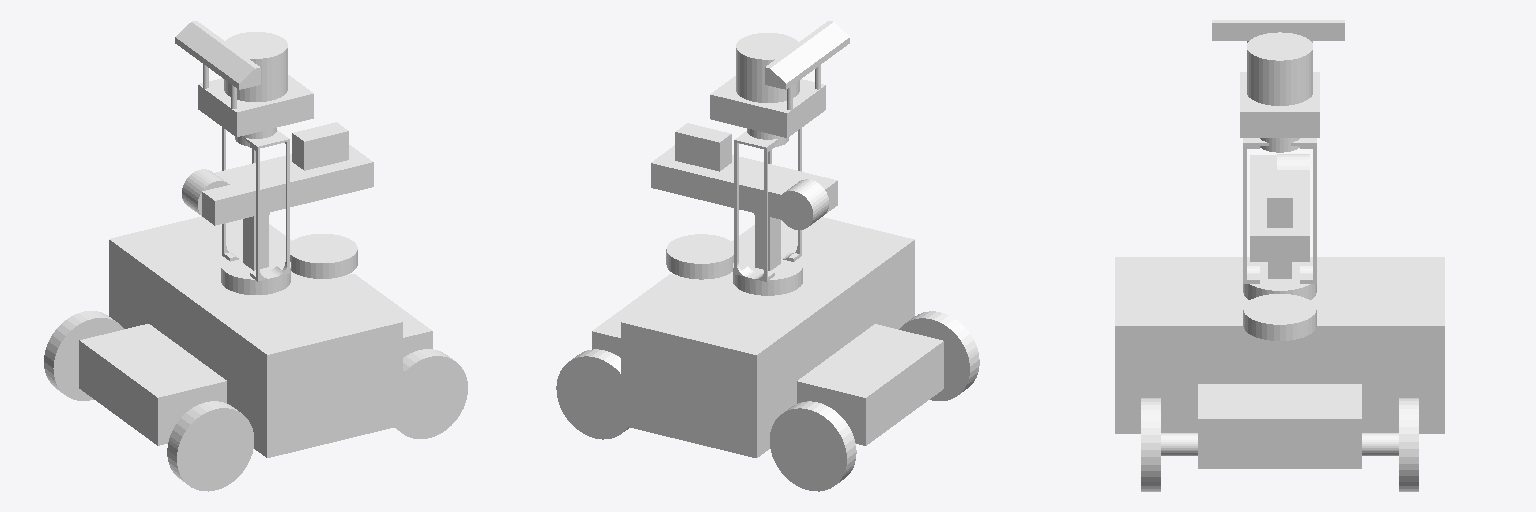
robot.urdf — sentry233333:
<?xml version="1.0" encoding="utf-8"?>
<!-- This URDF was automatically created by SolidWorks to URDF Exporter! Originally created by [author] ([email redacted]) 
     Commit Version: 1.6.0-4-g7f85cfe  Build Version: 1.6.7995.38578
     For more information, please see http://wiki.ros.org/sw_urdf_exporter -->
<robot
  name="sentry233333">
  <link
  
    name="base_link">
    <inertial>
      <origin
        xyz="0 0 0"
        rpy="0 0 0" />
      <mass
        value="25.541" />
      <inertia
        ixx="0.91899"
        ixy="5.9401E-05"
        ixz="-0.010701"
        iyy="0.75967"
        iyz="-4.2596E-05"
        izz="0.78912" />
    </inertial>
    
    
    
    <visual>
      <origin
        xyz="0 0 0"
        rpy="0 0 0" />
      <geometry>
        <mesh
          filename="package://sentry233333/meshes/base_link.STL" />
      </geometry>
      <material
        name="">
        <color
          rgba="1 1 1 1" />
      </material>
    </visual>
    
    
    
    <collision>
      <origin
        xyz="0 0 0"
        rpy="0 0 0" />
      <geometry>
        <mesh
          filename="package://sentry233333/meshes/base_link.STL" />
      </geometry>
    </collision>
  </link>
  
  
  <link
    name="wheel_leftfront_link">
    <inertial>
      <origin
        xyz="0 0 0"
        rpy="0 0 0" />
      <mass
        value="0.227" />
      <inertia
        ixx="0.00060036"
        ixy="-1.3779E-20"
        ixz="1.6094E-20"
        iyy="0.0011314"
        iyz="-5.6497E-18"
        izz="0.00060036" />
    </inertial>
    <visual>
      <origin
        xyz="0 0 0"
        rpy="0 0 0" />
      <geometry>
        <mesh
          filename="package://sentry233333/meshes/wheel_leftfront_link.STL" />
      </geometry>
      <material
        name="">
        <color
          rgba="1 1 1 1" />
      </material>
    </visual>
    <collision>
      <origin
        xyz="0 0 0"
        rpy="0 0 0" />
      <geometry>
        <mesh
          filename="package://sentry233333/meshes/wheel_leftfront_link.STL" />
      </geometry>
    </collision>
  </link>
  
  
  
  <joint
    name="wheel_leftfront_joint"
    type="continuous">
    <origin
      xyz="0.19004 0.19248 -0.096213"
      rpy="0 0 0" />
    <parent
      link="base_link" />
    <child
      link="wheel_leftfront_link" />
    <axis
      xyz="0 1 0" />
  </joint>
  <link
    name="wheel_leftback_link">
    <inertial>
      <origin
        xyz="0 0 0"
        rpy="0 0 0" />
      <mass
        value="0.227" />
      <inertia
        ixx="0.00060036"
        ixy="-1.2707E-20"
        ixz="-1.3553E-20"
        iyy="0.0011314"
        iyz="-5.6397E-18"
        izz="0.00060036" />
    </inertial>
    <visual>
      <origin
        xyz="0 0 0"
        rpy="0 0 0" />
      <geometry>
        <mesh
          filename="package://sentry233333/meshes/wheel_leftback_link.STL" />
      </geometry>
      <material
        name="">
        <color
          rgba="1 1 1 1" />
      </material>
    </visual>
    <collision>
      <origin
        xyz="0 0 0"
        rpy="0 0 0" />
      <geometry>
        <mesh
          filename="package://sentry233333/meshes/wheel_leftback_link.STL" />
      </geometry>
    </collision>
  </link>
  <joint
    name="wheel_leftback_joint"
    type="continuous">
    <origin
      xyz="-0.19496 0.19248 -0.096213"
      rpy="0 0 0" />
    <parent
      link="base_link" />
    <child
      link="wheel_leftback_link" />
    <axis
      xyz="0 1 0" />
  </joint>
  <link
    name="wheel_rightback_link">
    <inertial>
      <origin
        xyz="0 0 0"
        rpy="0 0 0" />
      <mass
        value="0.227" />
      <inertia
        ixx="0.00060036"
        ixy="-1.8789E-20"
        ixz="6.1833E-20"
        iyy="0.0011314"
        iyz="-5.6377E-18"
        izz="0.00060036" />
    </inertial>
    <visual>
      <origin
        xyz="0 0 0"
        rpy="0 0 0" />
      <geometry>
        <mesh
          filename="package://sentry233333/meshes/wheel_rightback_link.STL" />
      </geometry>
      <material
        name="">
        <color
          rgba="1 1 1 1" />
      </material>
    </visual>
    <collision>
      <origin
        xyz="0 0 0"
        rpy="0 0 0" />
      <geometry>
        <mesh
          filename="package://sentry233333/meshes/wheel_rightback_link.STL" />
      </geometry>
    </collision>
  </link>
  <joint
    name="wheel_rightback_joint"
    type="continuous">
    <origin
      xyz="-0.19496 -0.19252 -0.096213"
      rpy="0 0 0" />
    <parent
      link="base_link" />
    <child
      link="wheel_rightback_link" />
    <axis
      xyz="0 1 0" />
  </joint>
  <link
    name="wheel_rightfront_link">
    <inertial>
      <origin
        xyz="0 0 0"
        rpy="0 0 0" />
      <mass
        value="0.227" />
      <inertia
        ixx="0.00060036"
        ixy="-6.7763E-21"
        ixz="-4.2414E-51"
        iyy="0.0011314"
        iyz="-9.3706E-37"
        izz="0.00060036" />
    </inertial>
    <visual>
      <origin
        xyz="0 0 0"
        rpy="0 0 0" />
      <geometry>
        <mesh
          filename="package://sentry233333/meshes/wheel_rightfront_link.STL" />
      </geometry>
      <material
        name="">
        <color
          rgba="1 1 1 1" />
      </material>
    </visual>
    <collision>
      <origin
        xyz="0 0 0"
        rpy="0 0 0" />
      <geometry>
        <mesh
          filename="package://sentry233333/meshes/wheel_rightfront_link.STL" />
      </geometry>
    </collision>
  </link>
  <joint
    name="wheel_rightfront_joint"
    type="continuous">
    <origin
      xyz="0.19004 -0.19252 -0.096213"
      rpy="0 0 0" />
    <parent
      link="base_link" />
    <child
      link="wheel_rightfront_link" />
    <axis
      xyz="0 1 0" />
  </joint>
  
  
</robot>

--- Facts derived from the render (not from the file) ---
3 views of the same robot in one strip: view 1: azimuth 30°, elevation 25°; view 2: azimuth 150°, elevation 25°; view 3: azimuth 270°, elevation 25° (orthographic).
Model sentry233333 with 5 links and 4 joints (4 continuous), rooted at base_link, posed every joint at zero.
Visible links, largest first — view 1: base_link, wheel_rightback_link, wheel_rightfront_link, wheel_leftback_link; view 2: base_link, wheel_leftback_link, wheel_leftfront_link, wheel_rightback_link; view 3: base_link, wheel_leftfront_link, wheel_rightfront_link.
Boxes of the visible links, x1=… form: base_link: x1=79, y1=21, x2=432, y2=457; wheel_rightback_link: x1=167, y1=401, x2=253, y2=491; wheel_rightfront_link: x1=394, y1=349, x2=467, y2=438; wheel_leftback_link: x1=44, y1=311, x2=123, y2=400; base_link: x1=592, y1=21, x2=943, y2=457; wheel_leftback_link: x1=770, y1=401, x2=856, y2=491; wheel_leftfront_link: x1=556, y1=349, x2=628, y2=439; wheel_rightback_link: x1=899, y1=311, x2=979, y2=400; base_link: x1=1115, y1=20, x2=1444, y2=468; wheel_leftfront_link: x1=1399, y1=398, x2=1418, y2=491; wheel_rightfront_link: x1=1141, y1=398, x2=1160, y2=491.
Bounding box of the posed robot: 0.525 × 0.495 × 0.653 m (x, y, z).
Meshes: 5 distinct files referenced, 5 mesh visuals loaded (5 binary STL).
